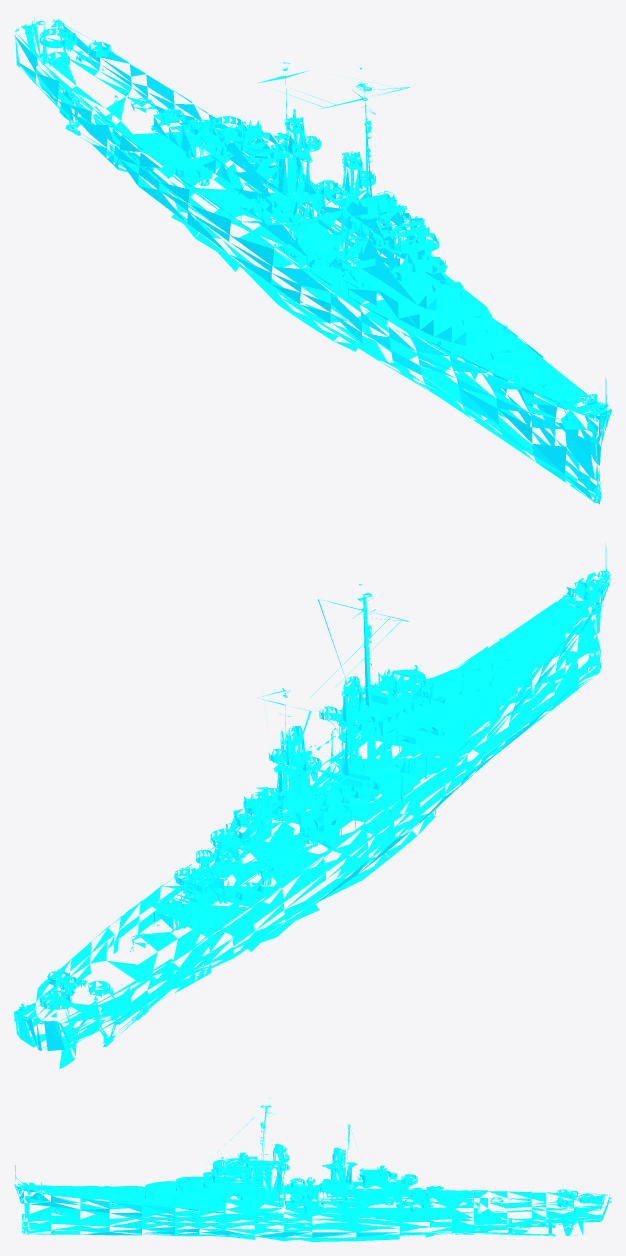
Rendered from Flint.glb.
The picture shows the model from 3 angles, top to bottom: view 1: azimuth 30°, elevation 25°; view 2: azimuth 150°, elevation 25°; view 3: azimuth 270°, elevation 25°; orthographic projection. The views are drawn at different scales.
Bounding box in the file's own units: 1.09 × 2.8 × 11.05.
